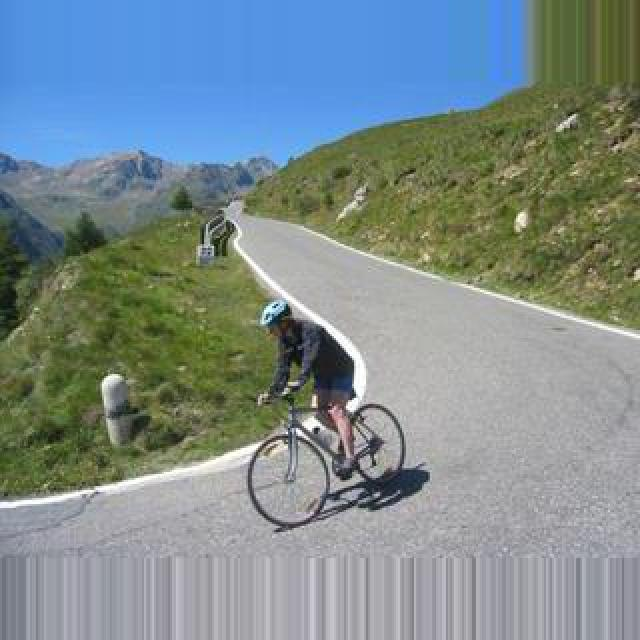MC-Bike: (252, 300, 366, 478)
Person: (245, 386, 407, 530)
